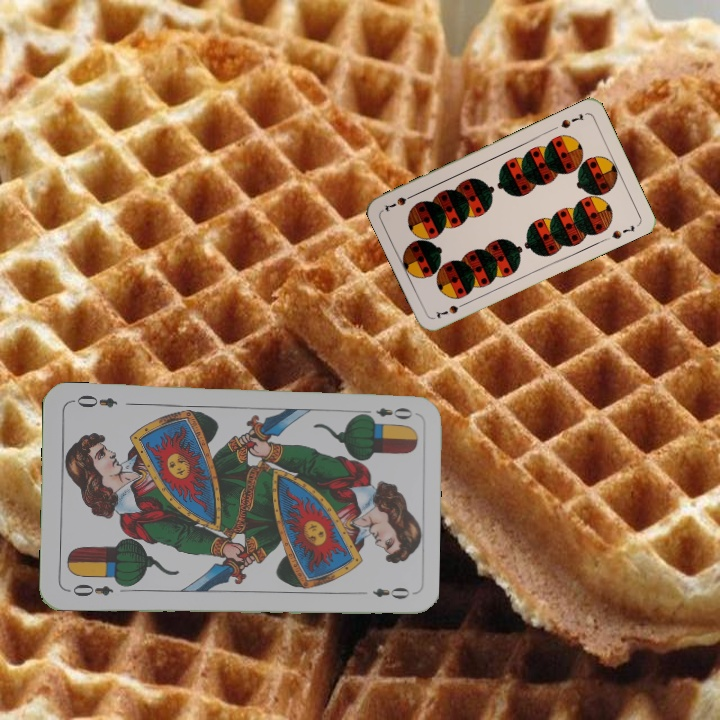EO: (357, 403, 415, 422), (64, 579, 116, 599)
S7: (432, 298, 469, 321), (557, 110, 587, 131)
